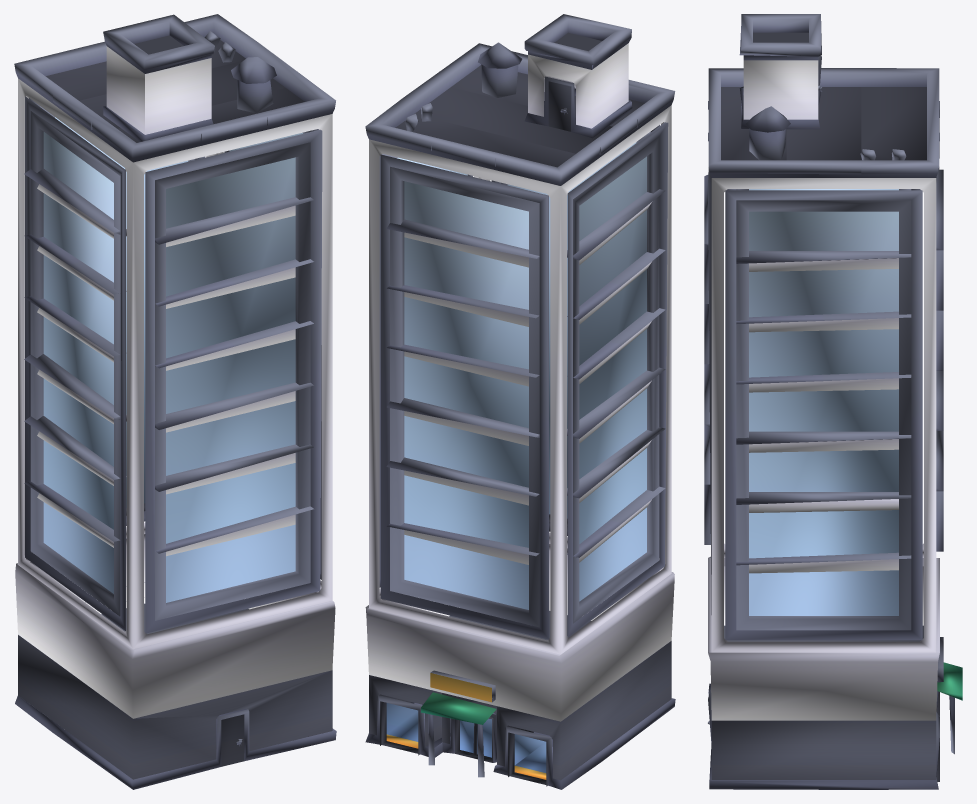
Rendered from tower-sky-c-medium.glb.
3 views of the same model, side by side, from view 1: azimuth 30°, elevation 25°; view 2: azimuth 150°, elevation 25°; view 3: azimuth 270°, elevation 25° (orthographic). The views are drawn at different scales.
Parts seen in each view (by area): view 1: building-skyscraper-c baked; view 2: building-skyscraper-c baked; view 3: building-skyscraper-c baked.
Part boxes in pixels (x1,y1,x2,y2): building-skyscraper-c baked: (14, 14, 336, 789); building-skyscraper-c baked: (365, 14, 675, 789); building-skyscraper-c baked: (704, 14, 962, 789).
Size of the model in its own units: 8.78 by 28 by 9.48.
Materials: 1 (1 with a texture image).
